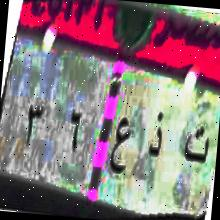3: (20, 94, 48, 156)
6: (64, 97, 87, 161)
ain: (107, 112, 136, 184)
taa: (180, 121, 213, 173)
zaal: (140, 100, 172, 171)
